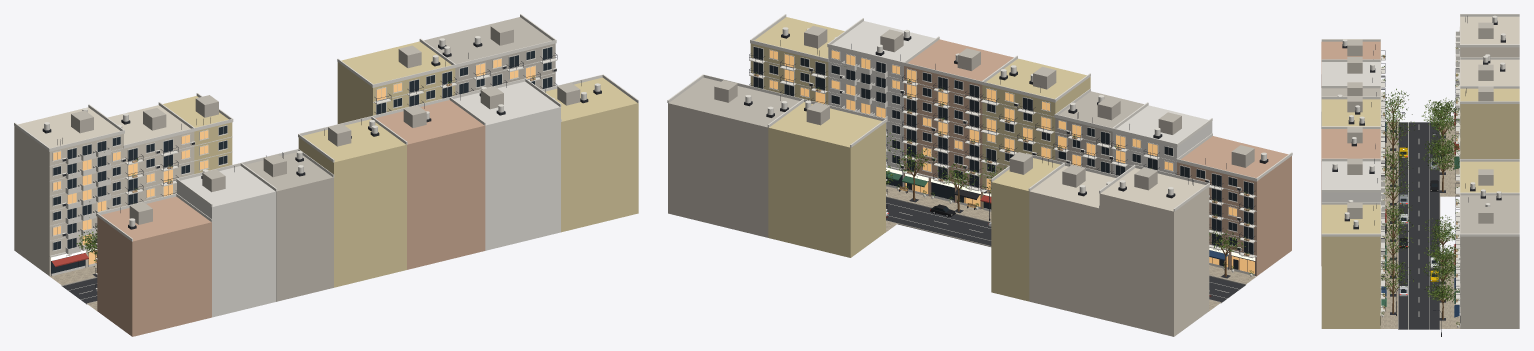
Rendered from city.glb.
The picture shows the model from 3 angles, left to right: view 1: azimuth 30°, elevation 25°; view 2: azimuth 150°, elevation 25°; view 3: azimuth 270°, elevation 25°; orthographic projection. The views are drawn at different scales.
Visible parts, largest first — view 1: bw4, bw5, bw2, bw3, bwtrim, bw1, win, win_lit_n, iron, asphalt, paving; view 2: bw4, bw1, bw3, bwtrim, bw5, win, bw2, win_lit_n, iron, asphalt, paving, leaf (+2 smaller); view 3: bw4, bw3, asphalt, bwtrim, leaf, paving, bw1, leaf2, bw2, bw5, iron, trunk (+8 smaller).
Boxes of the visible parts, x1=… form: bw4: x1=163, y1=41, x2=638, y2=287; bw5: x1=97, y1=100, x2=485, y2=336; bw2: x1=177, y1=81, x2=560, y2=317; bw3: x1=71, y1=17, x2=580, y2=301; bwtrim: x1=14, y1=14, x2=638, y2=291; bw1: x1=14, y1=105, x2=194, y2=276; win: x1=51, y1=47, x2=552, y2=273; win_lit_n: x1=53, y1=58, x2=535, y2=264; iron: x1=42, y1=42, x2=601, y2=287; asphalt: x1=62, y1=278, x2=97, y2=303; paving: x1=49, y1=265, x2=97, y2=310; bw4: x1=750, y1=17, x2=1090, y2=301; bw1: x1=1029, y1=166, x2=1209, y2=336; bw3: x1=668, y1=26, x2=1254, y2=237; bwtrim: x1=667, y1=14, x2=1292, y2=291; bw5: x1=904, y1=39, x2=1291, y2=276; win: x1=753, y1=47, x2=1253, y2=269; bw2: x1=828, y1=21, x2=1212, y2=189; win_lit_n: x1=769, y1=50, x2=1254, y2=273; iron: x1=744, y1=33, x2=1268, y2=278; asphalt: x1=886, y1=197, x2=1245, y2=302; paving: x1=886, y1=186, x2=1256, y2=310; leaf: x1=754, y1=66, x2=1253, y2=274; bw4: x1=1321, y1=88, x2=1519, y2=328; bw3: x1=1321, y1=22, x2=1519, y2=328; asphalt: x1=1398, y1=122, x2=1439, y2=329; bwtrim: x1=1321, y1=14, x2=1519, y2=327; leaf: x1=1381, y1=47, x2=1459, y2=325; paving: x1=1380, y1=121, x2=1460, y2=328; bw1: x1=1460, y1=16, x2=1519, y2=85; leaf2: x1=1381, y1=47, x2=1459, y2=324; bw2: x1=1321, y1=62, x2=1380, y2=202; bw5: x1=1321, y1=41, x2=1380, y2=265; iron: x1=1332, y1=16, x2=1505, y2=336; trunk: x1=1383, y1=98, x2=1454, y2=319.
Bounding box in the file's own units: 112 × 28.34 × 43.6.
Materials: 34 (4 with a texture image).
